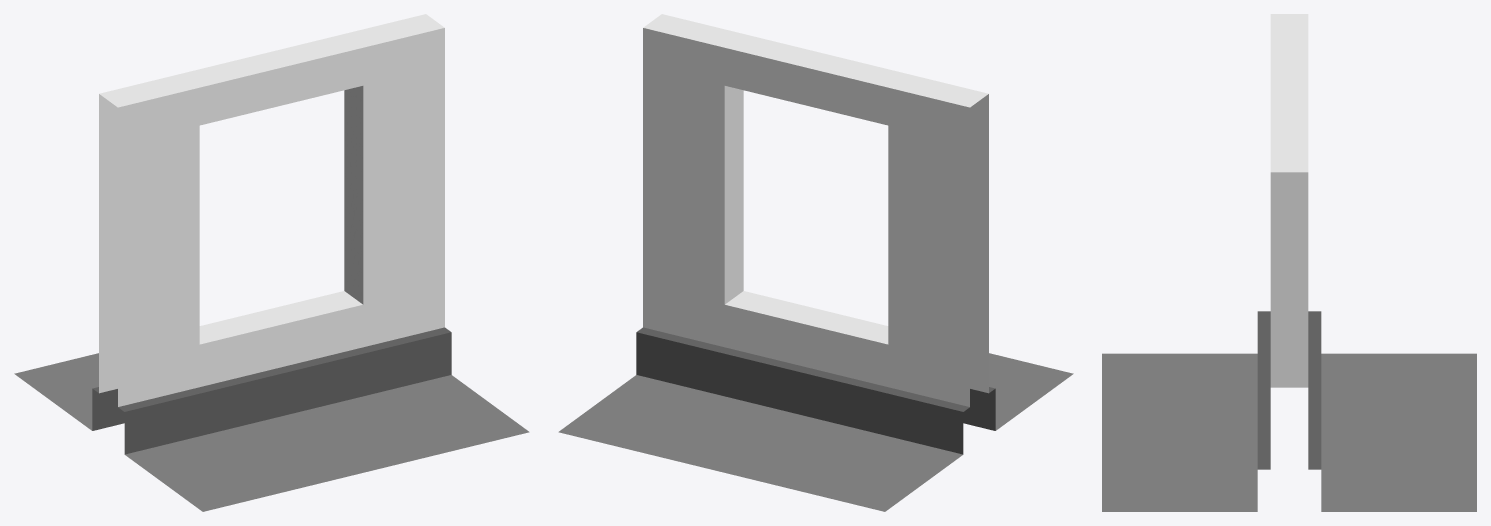
File: I_Wall_Straight_Window.fbx
3 renders of one model, left to right at view 1: azimuth 30°, elevation 25°; view 2: azimuth 150°, elevation 25°; view 3: azimuth 270°, elevation 25°, orthographic.
Parts seen in each view (by area): view 1: I_Wall_Straight_Window; view 2: I_Wall_Straight_Window; view 3: I_Wall_Straight_Window.
Part boxes in pixels (x1=…): I_Wall_Straight_Window: x1=14, y1=14, x2=529, y2=511; I_Wall_Straight_Window: x1=558, y1=14, x2=1073, y2=511; I_Wall_Straight_Window: x1=1102, y1=14, x2=1476, y2=511.
Bounding box in the file's own units: 200 × 200 × 200.
